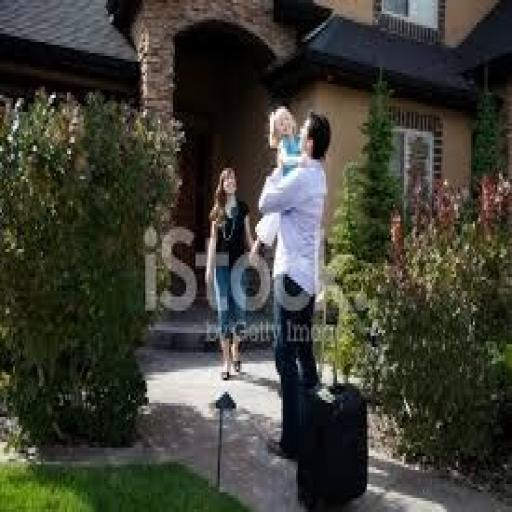hugging: (250, 104, 335, 462), (203, 162, 259, 384)
